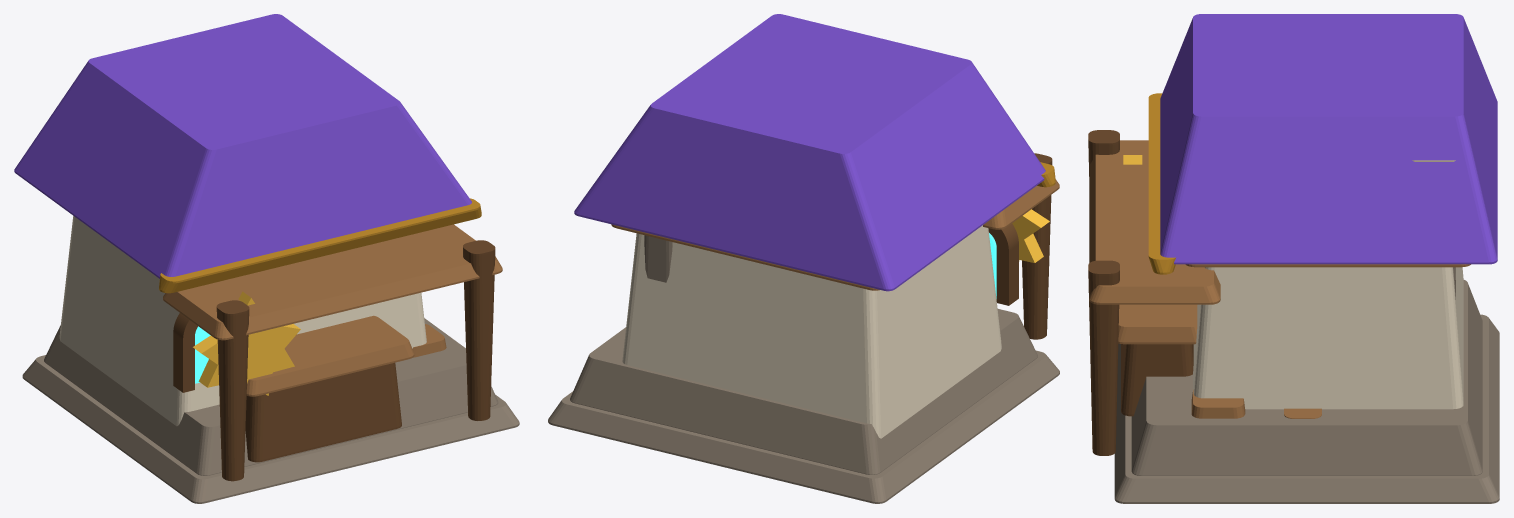
File: atelier.glb
3 views of the same model, side by side, from view 1: azimuth 30°, elevation 25°; view 2: azimuth 150°, elevation 25°; view 3: azimuth 270°, elevation 25° (orthographic). The views are drawn at different scales.
Visible parts, largest first — view 1: roof_violet, stone_dark, wood, wood_dark, stone_light, gold_dark, Engrenage; view 2: roof_violet, stone_light, stone_dark, wood_dark, wood, Engrenage; view 3: roof_violet, stone_dark, stone_light, wood, wood_dark, gold_dark.
Boxes of the visible parts, box(x1,y1,x2,y2) form: roof_violet: box(14, 14, 471, 278); stone_dark: box(22, 318, 519, 503); wood: box(163, 224, 502, 396); wood_dark: box(173, 240, 495, 481); stone_light: box(59, 216, 426, 426); gold_dark: box(159, 198, 481, 293); Engrenage: box(193, 291, 300, 395); roof_violet: box(574, 14, 1045, 291); stone_light: box(622, 225, 1001, 438); stone_dark: box(548, 235, 1059, 503); wood_dark: box(988, 153, 1052, 339); wood: box(611, 179, 1059, 290); Engrenage: box(1012, 209, 1049, 262); roof_violet: box(1160, 14, 1497, 264); stone_dark: box(1114, 267, 1499, 503); stone_light: box(1193, 267, 1463, 409); wood: box(1089, 140, 1470, 418); wood_dark: box(1088, 130, 1193, 455); gold_dark: box(1148, 93, 1175, 274).
Size of the model in its own units: 2.02 by 1.79 by 1.94.
